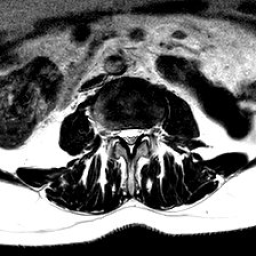CCS_normal: (125, 118, 133, 157)
LFS_stenosis: (141, 118, 149, 142)
LLS_normal: (133, 118, 141, 147)
RFS_normal: (108, 117, 117, 146)
RLS_normal: (117, 120, 125, 147)
